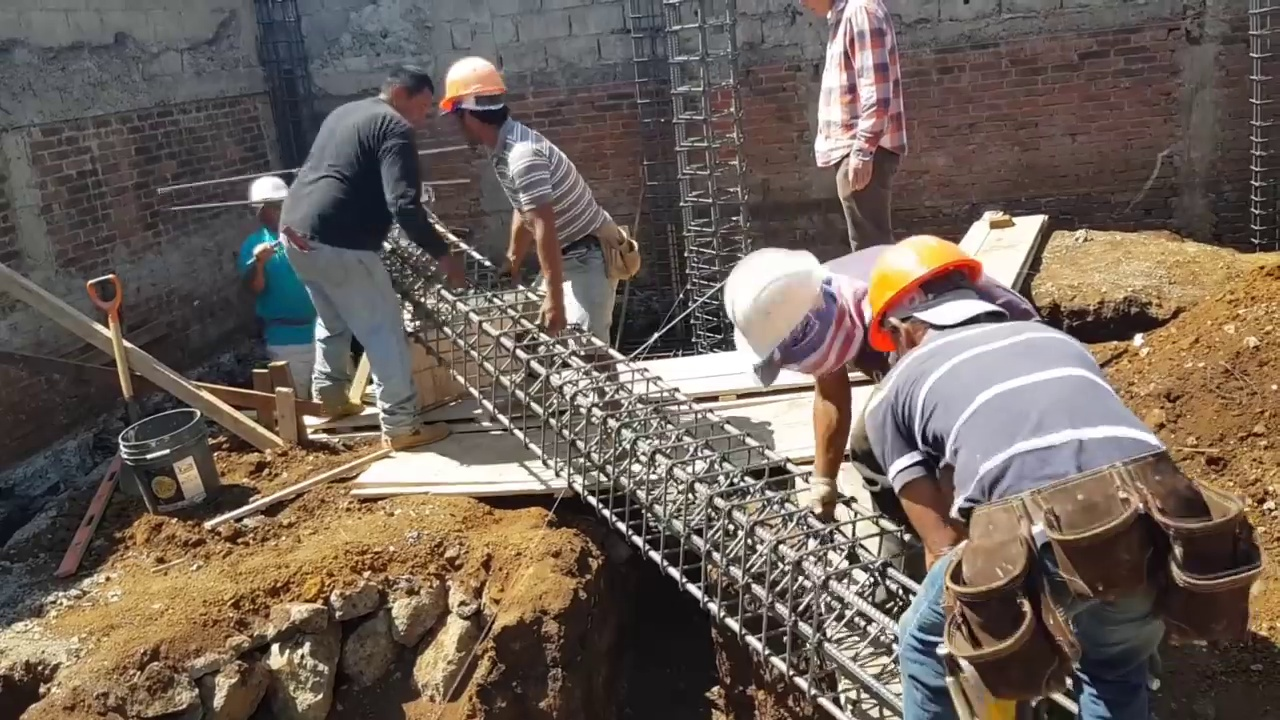helmet: (865, 235, 982, 354), (722, 244, 832, 367), (439, 56, 514, 106), (248, 175, 290, 204)
helmet-off: (376, 61, 435, 121)
helmet-on: (720, 241, 858, 384), (859, 236, 1011, 347), (439, 58, 513, 147), (248, 175, 290, 235)
person: (858, 235, 1246, 659), (721, 237, 1040, 508), (291, 62, 472, 454), (465, 90, 625, 440), (814, 0, 904, 250), (236, 178, 320, 399)
